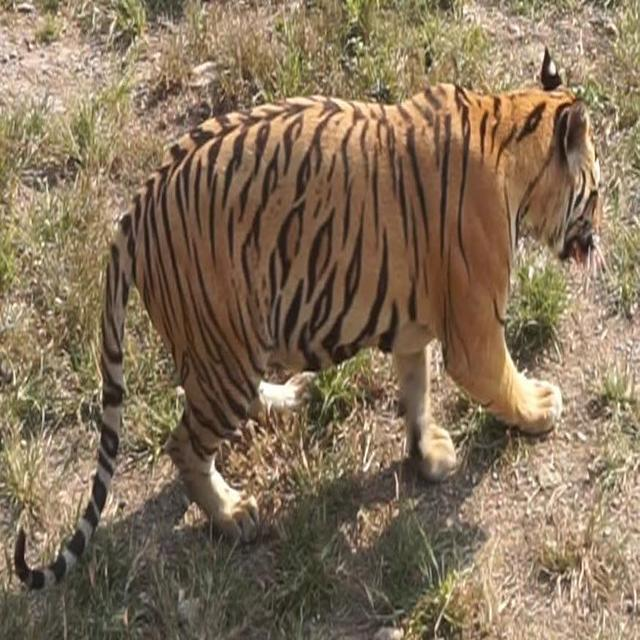tiger: (10, 45, 604, 592)
